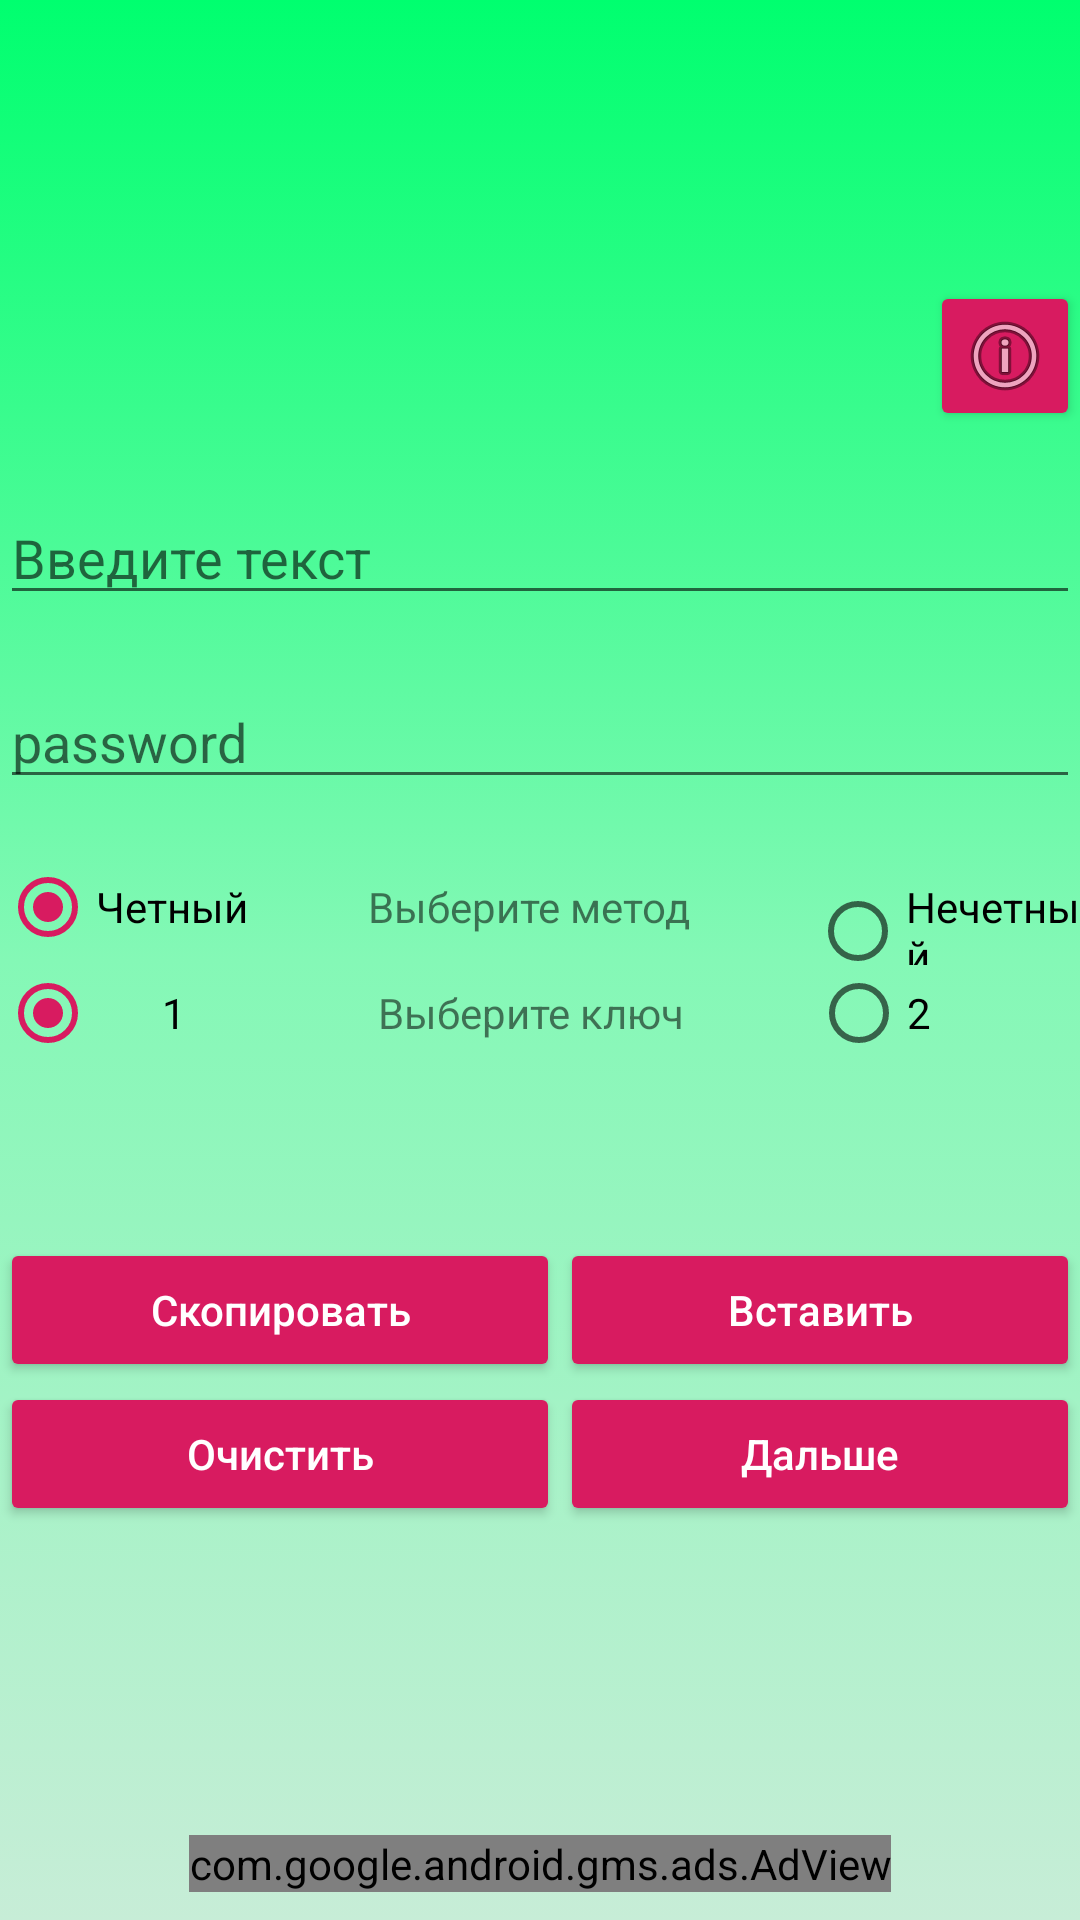

Point at icon controls on the screen. Image size 1080x1920, points as (x,y).
info details: (1005,356)
